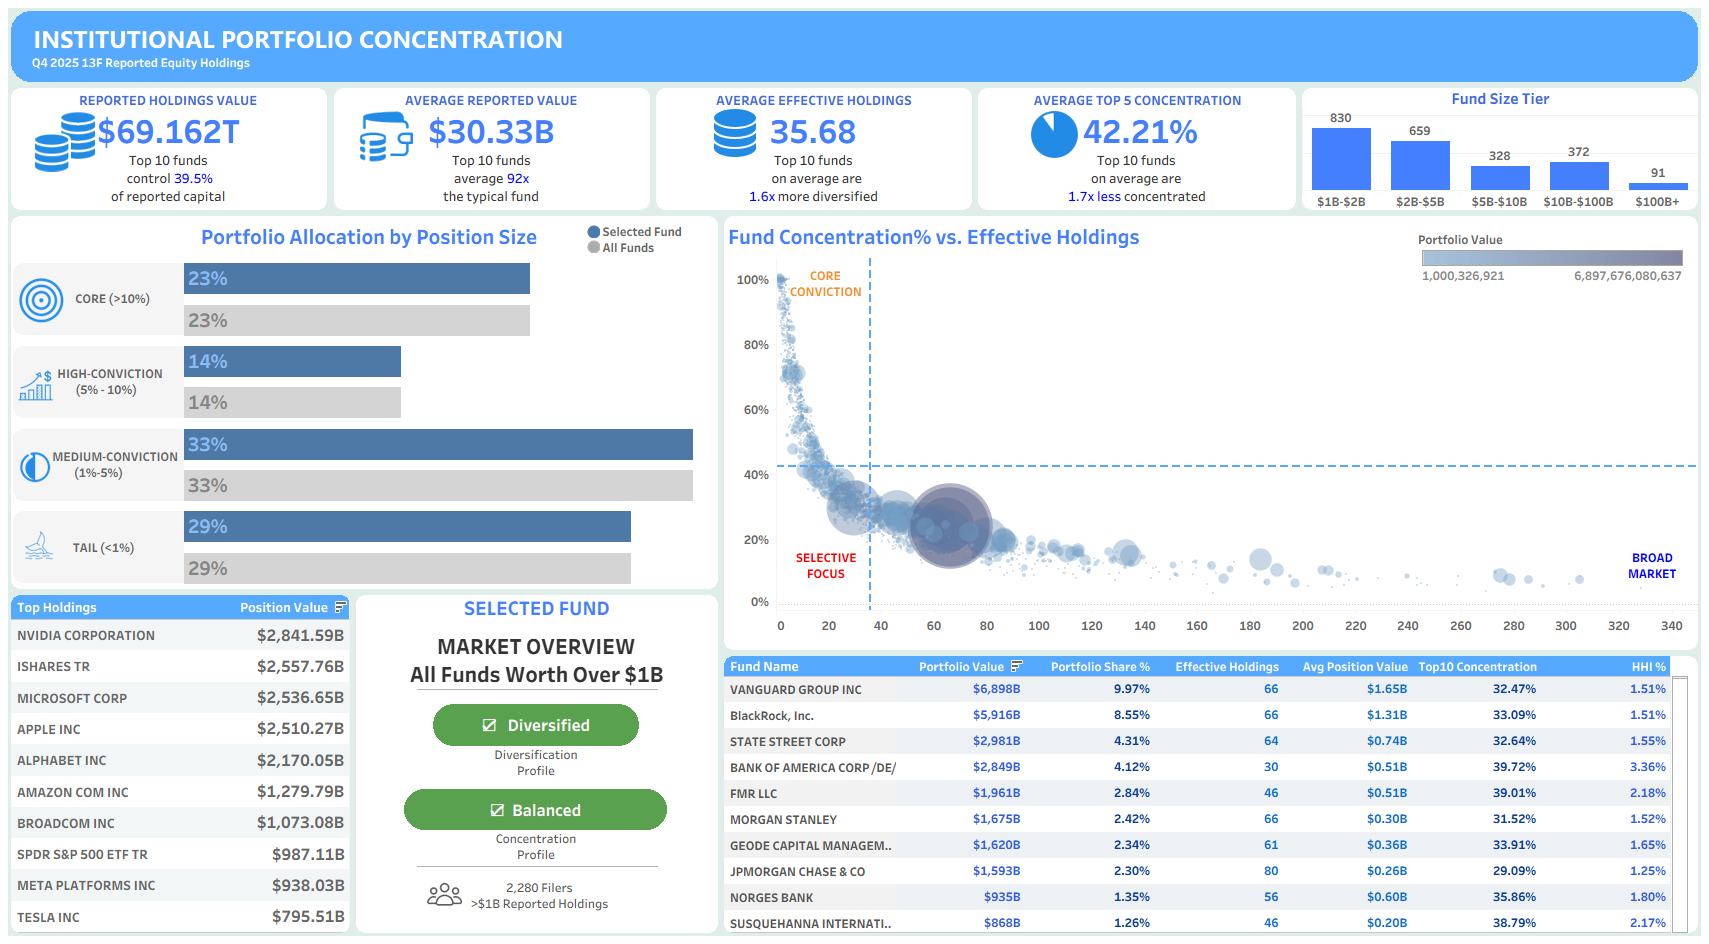

This screenshot's page, from the dashboard's own definition file:
{"tool":"tableau","page":{"name":"Dashboard 1","canvas":[1000,1000],"units":"permille","ordinal":0},"visuals":[{"type":"title","box":[4.7,8.5,990.6,81.5]},{"type":"worksheet","title":"Sheet 2","mark":"Automatic","box":[4.7,90,188.7,136]},{"type":"worksheet","title":"Sheet 3","mark":"Automatic","box":[193.4,90,188.5,136]},{"type":"worksheet","title":"Sheet 6","mark":"Automatic","box":[381.9,90,188.4,136]},{"type":"worksheet","title":"Sheet 7","mark":"Automatic","box":[570.3,90,189.7,136]},{"type":"worksheet","title":"Sheet 11","mark":"Bar","rows":["fund_name"],"cols":["Calculation_0336177946624000"],"box":[760,90,235.3,136]},{"type":"image","param":"C:/Users/Raav/Desktop/Work Stuff/PROJECT 2/Final/Institutional Portfolio Concent","box":[209.5,115.5,33.9,58.3]},{"type":"image","param":"C:/Users/Raav/Desktop/Work Stuff/PROJECT 2/Final/Institutional Portfolio Concent","box":[415.4,115.5,29.3,61.4]},{"type":"image","param":"C:/Users/Raav/Desktop/Work Stuff/PROJECT 2/Final/Institutional Portfolio Concent","box":[602.1,115.5,29.8,56.1]},{"type":"image","param":"C:/Users/Raav/Desktop/Work Stuff/PROJECT 2/Final/Institutional Portfolio Concent","box":[20.5,118.6,38,63.6]},{"type":"blank","box":[4.7,226,103,401.6]},{"type":"worksheet","title":"Sheet 8","mark":"Bar","rows":["position_bucket (bucket_summary_clean)"],"box":[107.7,226,314.4,401.6]},{"type":"worksheet","title":"Sheet 5","mark":"Circle","rows":["top5_concentration"],"cols":["effective_holdings"],"box":[422.1,226,573.2,465.3]},{"type":"text","box":[351.1,226.7,55.6,54]},{"type":"image","param":"C:/Users/Raav/Desktop/Work Stuff/PROJECT 2/Final/Institutional Portfolio Concent","box":[343.5,238.3,7.6,19.1]},{"type":"legend","title":"Sheet 5","param":"[federated.1q4xv8o17jksh01113fyi0gnvkeu].[sum:portfolio_value:qk]","box":[829.7,240.5,157.4,59.3]},{"type":"image","param":"C:/Users/Raav/Desktop/Work Stuff/PROJECT 2/Final/Institutional Portfolio Concent","box":[343.5,254.2,7.6,19.1]},{"type":"text","box":[5.9,278.6,101.8,76.3]},{"type":"image","param":"C:/Users/Raav/Desktop/Work Stuff/PROJECT 2/Final/Institutional Portfolio Concent","box":[8.8,290.2,31.1,56.1]},{"type":"text","box":[5.9,366.5,101.8,76.3]},{"type":"image","param":"C:/Users/Raav/Desktop/Work Stuff/PROJECT 2/Final/Institutional Portfolio Concent","box":[9.4,387.7,23.4,41.3]},{"type":"text","box":[5.9,454.4,101.8,76.3]},{"type":"image","param":"C:/Users/Raav/Desktop/Work Stuff/PROJECT 2/Final/Institutional Portfolio Concent","box":[10.6,476.7,20.5,36]},{"type":"text","box":[5.9,541.3,101.8,76.3]},{"type":"image","param":"C:/Users/Raav/Desktop/Work Stuff/PROJECT 2/Final/Institutional Portfolio Concent","box":[12.8,559.3,19.8,37.1]},{"type":"worksheet","title":"Sheet 9","mark":"Automatic","rows":["company"],"box":[4.7,627.6,201.9,363.9]},{"type":"worksheet","title":"Sheet 12","mark":"Automatic","box":[206.6,627.6,215.6,363.9]},{"type":"worksheet","title":"Sheet 10","mark":"Automatic","rows":["fund_name"],"box":[422.1,691.3,573.2,300.2]},{"type":"blank","box":[244,729.9,141,1.1]},{"type":"worksheet","title":"Sheet 13","mark":"Square","box":[253.4,745.8,120.5,44.5]},{"type":"text","box":[271.5,790.2,84.3,36]},{"type":"worksheet","title":"Sheet 14","mark":"Pie","box":[236.4,835.8,153.9,43.4]},{"type":"text","box":[271.5,877.1,84.3,39.2]},{"type":"blank","box":[244,917.4,141,1.1]},{"type":"text","box":[270.9,919.5,89.5,59.3]},{"type":"image","param":"C:/Users/Raav/Desktop/Work Stuff/PROJECT 2/Final/Institutional Portfolio Concent","box":[249.8,929,20.5,38.1]}]}

Visuals, with their boxes on the dashboard's canvas, which has no fixed pixel size, in thousandths of its width and height (x1, y1, x2, y2). These are canvas units, not pixel positions in the 1709x944 screenshot, which may show the page scaled, cropped or inside an application window:
title: 5/8/995/90
"Sheet 2" worksheet: 5/90/193/226
"Sheet 3" worksheet: 193/90/382/226
"Sheet 6" worksheet: 382/90/570/226
"Sheet 7" worksheet: 570/90/760/226
"Sheet 11" worksheet (Bar marks): 760/90/995/226
image: 210/116/243/174
image: 415/116/445/177
image: 602/116/632/172
image: 20/119/58/182
blank: 5/226/108/628
"Sheet 8" worksheet (Bar marks): 108/226/422/628
"Sheet 5" worksheet (Circle marks): 422/226/995/691
text: 351/227/407/281
image: 344/238/351/257
"Sheet 5" legend: 830/240/987/300
image: 344/254/351/273
text: 6/279/108/355
image: 9/290/40/346
text: 6/366/108/443
image: 9/388/33/429
text: 6/454/108/531
image: 11/477/31/513
text: 6/541/108/618
image: 13/559/33/596
"Sheet 9" worksheet: 5/628/207/992
"Sheet 12" worksheet: 207/628/422/992
"Sheet 10" worksheet: 422/691/995/992
blank: 244/730/385/731
"Sheet 13" worksheet (Square marks): 253/746/374/790
text: 272/790/356/826
"Sheet 14" worksheet (Pie marks): 236/836/390/879
text: 272/877/356/916
blank: 244/917/385/918
text: 271/920/360/979
image: 250/929/270/967
